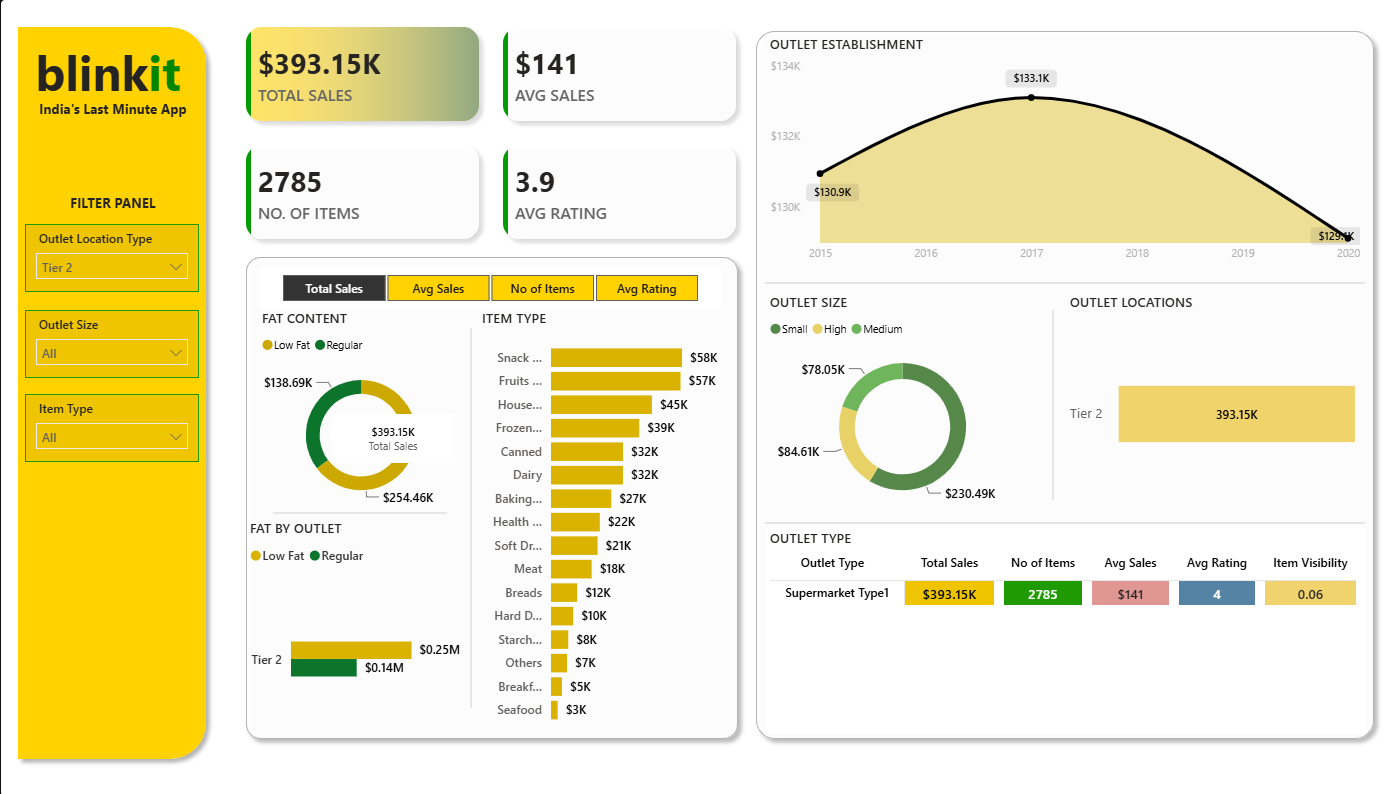

The page's visual inventory and layout, read from the dashboard file:
{"tool":"powerbi","page":{"name":"Page 1","canvas":[1400,800],"ordinal":0},"visuals":[{"type":"shape","box":[10,20,206,750],"z":0},{"type":"textbox","box":[18,36,182,76],"z":1000},{"type":"textbox","box":[28,96,172,30],"z":2000},{"type":"cardVisual","fields":{"Data":["BlinkIT Grocery Data.Total Sales","BlinkIT Grocery Data.Avg Sales","BlinkIT Grocery Data.No of Items","BlinkIT Grocery Data.Avg Rating"]},"box":[218,0,548,270],"z":3000},{"type":"shape","box":[237.5,250,510,500],"z":4000},{"type":"donutChart","title":"FAT CONTENT","fields":{"Y":["BlinkIT Grocery Data.Total Sales"],"Category":["BlinkIT Grocery Data.Item Fat Content"]},"box":[258,310,208,210],"z":5000},{"type":"slicer","fields":{"Values":["Metrics.Metrics"]},"box":[258.3,270,465,40],"z":6000},{"type":"cardVisual","fields":{"Data":["BlinkIT Grocery Data.Total Sales"]},"box":[332,416,124,54],"z":7000},{"type":"clusteredBarChart","title":"FAT BY OUTLET","fields":{"Y":["BlinkIT Grocery Data.Total Sales"],"Category":["BlinkIT Grocery Data.Outlet Location Type"],"Series":["BlinkIT Grocery Data.Item Fat Content"]},"box":[246,520,220,230],"z":8000},{"type":"shape","box":[274,510,174,10],"z":9000},{"type":"shape","box":[466,330,12,380],"z":10000},{"type":"barChart","title":"ITEM TYPE","fields":{"Y":["BlinkIT Grocery Data.Total Sales"],"Category":["BlinkIT Grocery Data.Item Type"]},"box":[478,310,246,426],"z":11000},{"type":"shape","box":[748,24,636,726],"z":12000},{"type":"lineChart","title":"OUTLET ESTABLISHMENT","fields":{"Y":["BlinkIT Grocery Data.Total Sales"],"Category":["BlinkIT Grocery Data.Outlet Establishment Year"]},"box":[766,36,600,236],"z":13000},{"type":"shape","box":[766,280,600,10],"z":14000},{"type":"donutChart","title":"OUTLET SIZE","fields":{"Y":["BlinkIT Grocery Data.Total Sales"],"Category":["BlinkIT Grocery Data.Outlet Size"]},"box":[766,294,275,225],"z":15000},{"type":"shape","box":[1042,312,24,190],"z":16000},{"type":"funnel","title":"OUTLET LOCATIONS","fields":{"Y":["Sum(BlinkIT Grocery Data.Sales)"],"Category":["BlinkIT Grocery Data.Outlet Location Type"]},"box":[1066,294,300,226],"z":17000},{"type":"shape","box":[766,520,600,10],"z":18000},{"type":"pivotTable","title":"OUTLET TYPE","fields":{"Rows":["BlinkIT Grocery Data.Outlet Type"],"Values":["BlinkIT Grocery Data.Total Sales","BlinkIT Grocery Data.No of Items","BlinkIT Grocery Data.Avg Sales","BlinkIT Grocery Data.Avg Rating","Avg(BlinkIT Grocery Data.Item Visibility)"]},"box":[766,530,600,206],"z":19000},{"type":"slicer","fields":{"Values":["BlinkIT Grocery Data.Outlet Location Type"]},"box":[26,226,174,68],"z":20000},{"type":"slicer","fields":{"Values":["BlinkIT Grocery Data.Outlet Size"]},"box":[26,312,174,68],"z":21000},{"type":"slicer","fields":{"Values":["BlinkIT Grocery Data.Item Type"]},"box":[26,396,174,68],"z":22000},{"type":"textbox","box":[56,190,116,36],"z":22001}]}

Visuals, with their boxes in screenshot pixels (x1, y1, x2, y2), scaled from the page's 1400x800 canvas onto the 1391x794 screenshot:
shape: l=10, t=20, r=215, b=764
textbox: l=18, t=36, r=199, b=111
textbox: l=28, t=95, r=199, b=125
cardVisual - BlinkIT Grocery Data.Total Sales x BlinkIT Grocery Data.Avg Sales: l=217, t=0, r=761, b=268
shape: l=236, t=248, r=743, b=744
"FAT CONTENT" donutChart: l=256, t=308, r=463, b=516
slicer - Metrics.Metrics: l=257, t=268, r=719, b=308
cardVisual - BlinkIT Grocery Data.Total Sales: l=330, t=413, r=453, b=466
"FAT BY OUTLET" clusteredBarChart: l=244, t=516, r=463, b=744
shape: l=272, t=506, r=445, b=516
shape: l=463, t=328, r=475, b=705
"ITEM TYPE" barChart: l=475, t=308, r=719, b=730
shape: l=743, t=24, r=1375, b=744
"OUTLET ESTABLISHMENT" lineChart: l=761, t=36, r=1357, b=270
shape: l=761, t=278, r=1357, b=288
"OUTLET SIZE" donutChart: l=761, t=292, r=1034, b=515
shape: l=1035, t=310, r=1059, b=498
"OUTLET LOCATIONS" funnel: l=1059, t=292, r=1357, b=516
shape: l=761, t=516, r=1357, b=526
"OUTLET TYPE" pivotTable: l=761, t=526, r=1357, b=730
slicer - BlinkIT Grocery Data.Outlet Location Type: l=26, t=224, r=199, b=292
slicer - BlinkIT Grocery Data.Outlet Size: l=26, t=310, r=199, b=377
slicer - BlinkIT Grocery Data.Item Type: l=26, t=393, r=199, b=461
textbox: l=56, t=189, r=171, b=224
